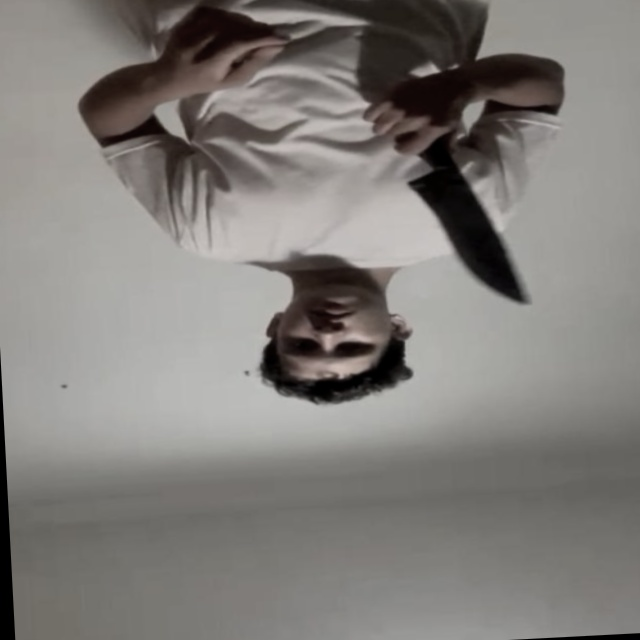Sharp-Object: (406, 170, 532, 311)
